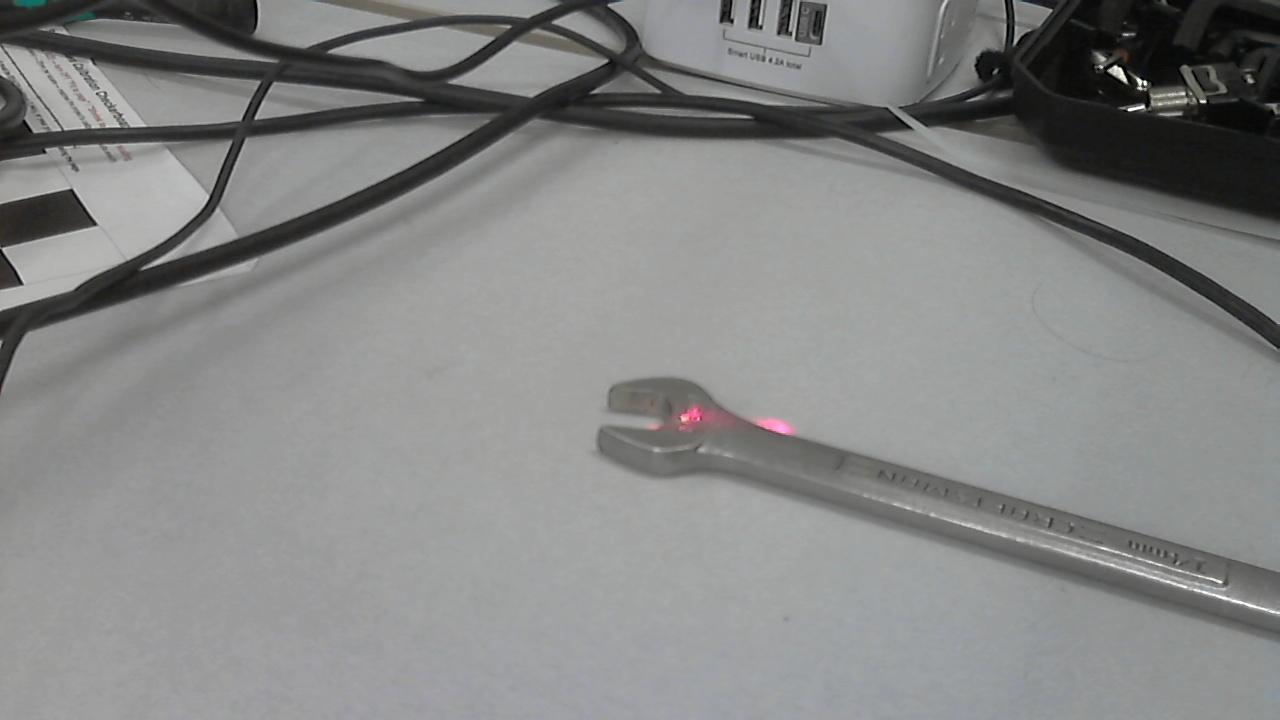Object combination wrench - Material metal- Pdfname faefasdffdaea: (658, 400, 737, 440)
